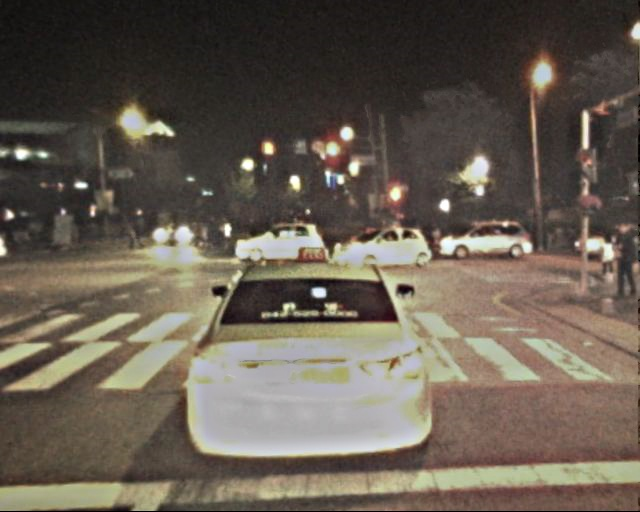person: (608, 222, 640, 301), (593, 227, 616, 283), (207, 218, 225, 249), (129, 217, 144, 253), (190, 217, 204, 250), (171, 219, 183, 249)
